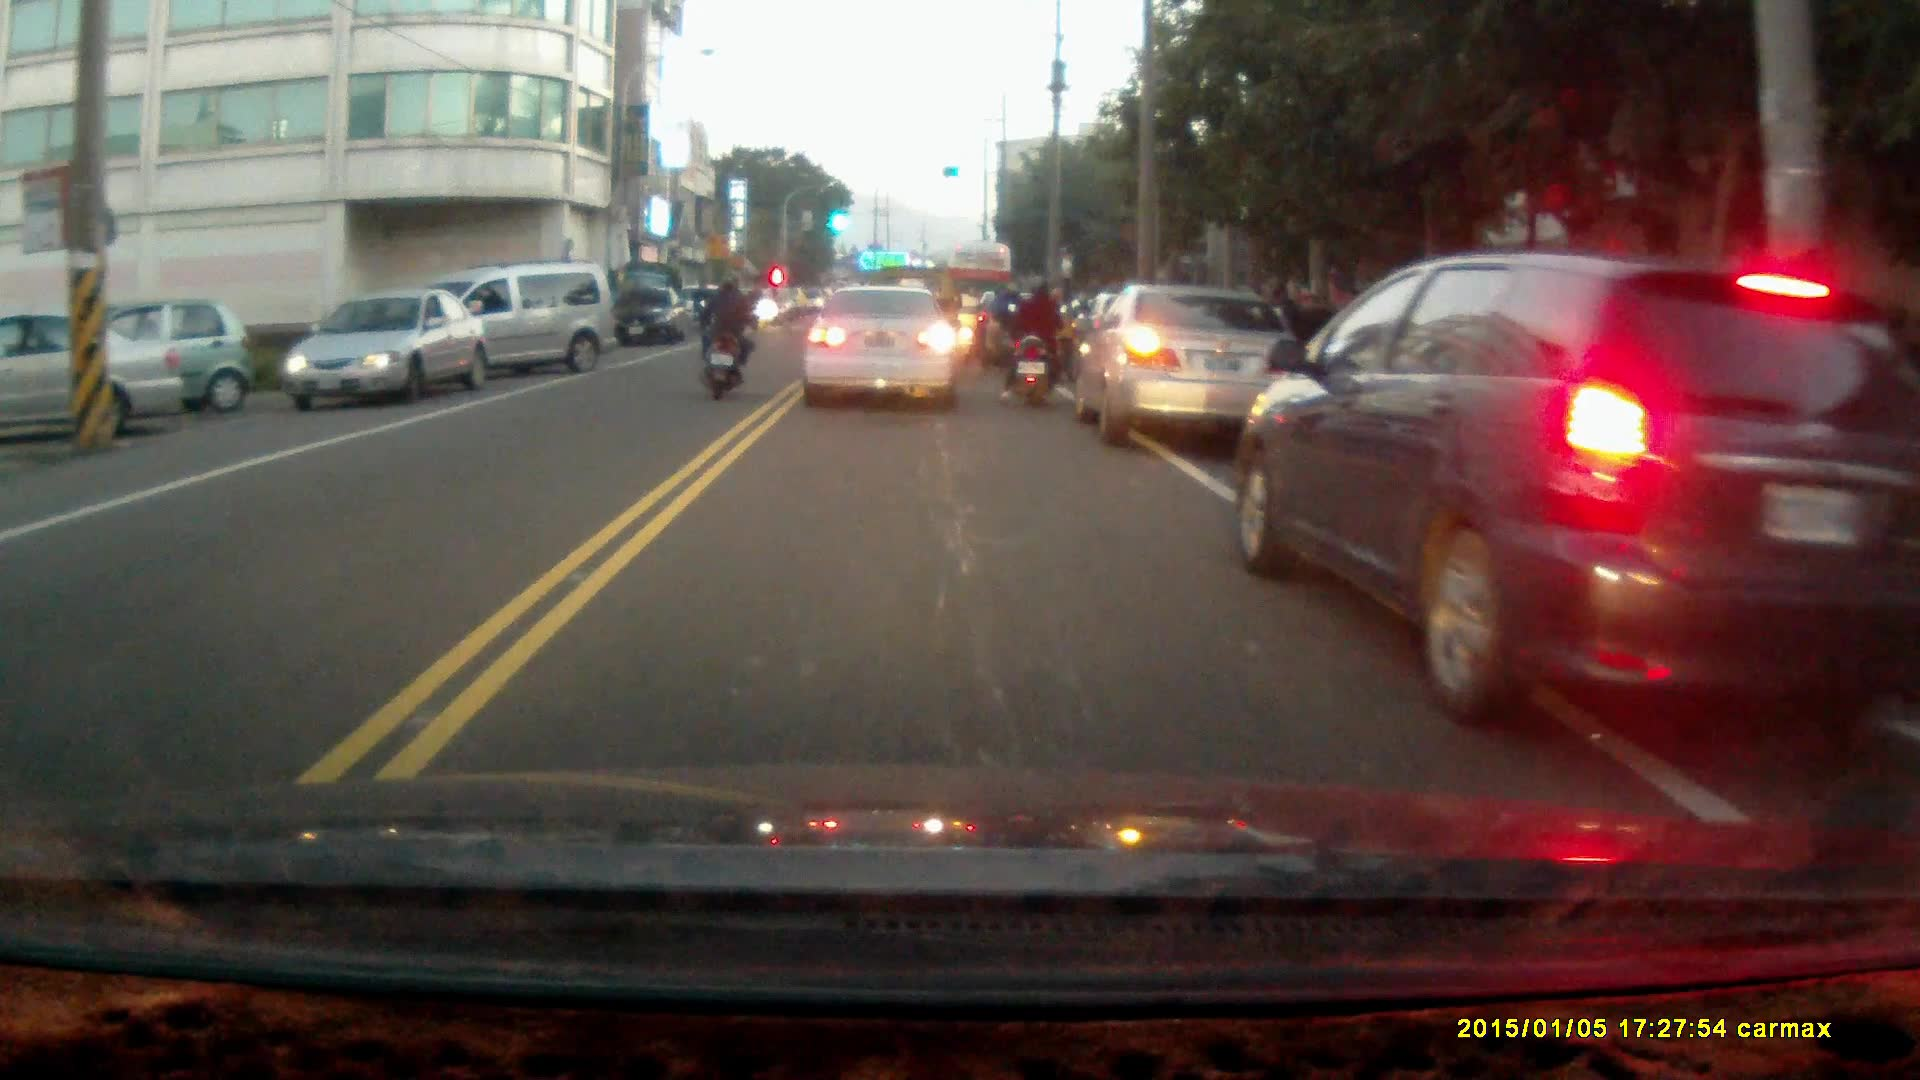rider: (1000, 269, 1069, 407), (695, 272, 755, 395)
vehicle: (1231, 244, 1896, 748), (1068, 279, 1308, 442), (378, 260, 613, 389), (19, 296, 246, 418), (277, 289, 487, 409), (1, 311, 185, 442), (799, 285, 963, 407), (606, 285, 682, 348)
